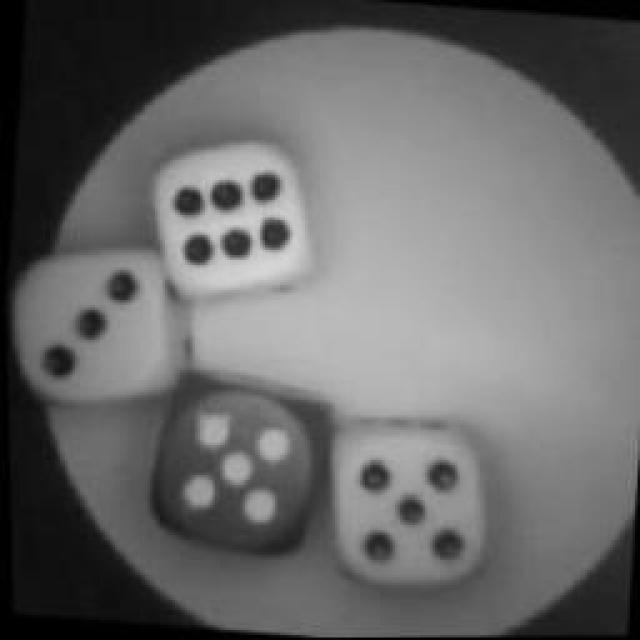dice_3: (11, 241, 191, 414)
dice_5: (138, 362, 332, 566), (312, 404, 498, 598)
dice_6: (141, 132, 331, 318)
